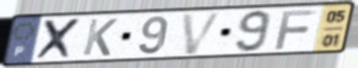9: (233, 8, 273, 54), (137, 15, 169, 56)
F: (272, 8, 320, 51)
K: (80, 17, 120, 58)
V: (179, 10, 226, 57)
X: (33, 16, 86, 62)
